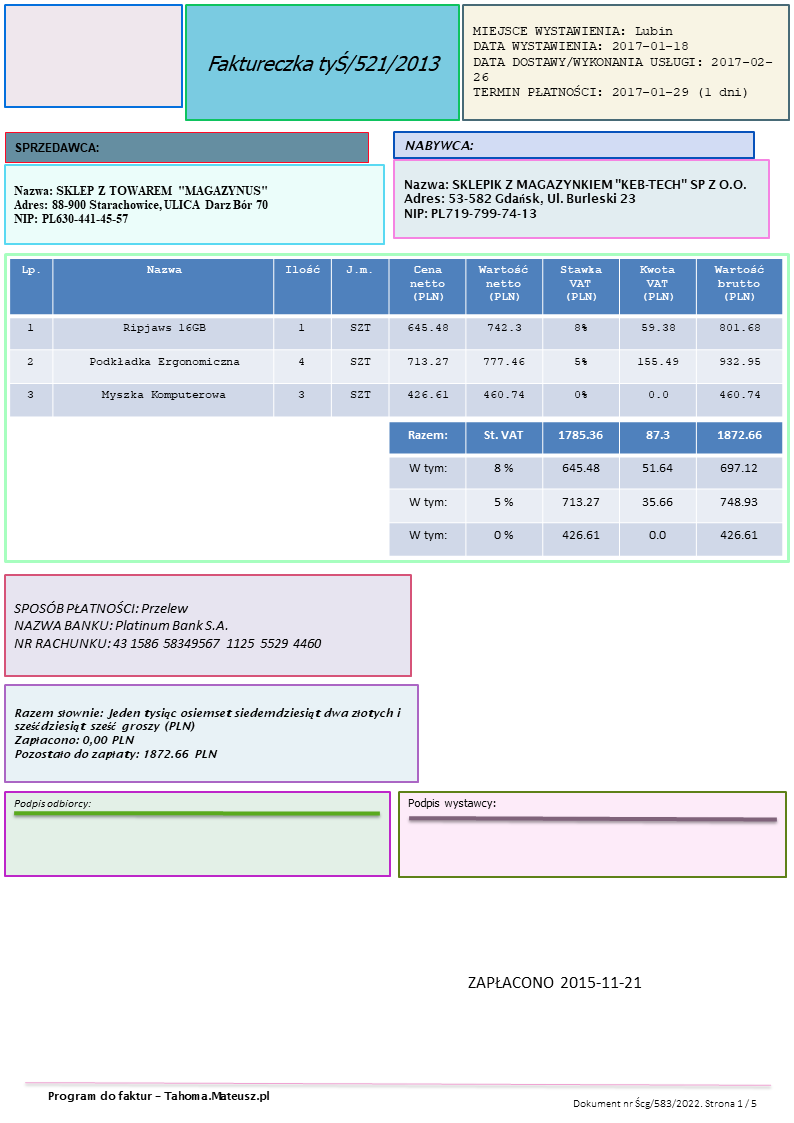Table: (8, 257, 783, 418), (387, 421, 785, 558)
TextBox: (469, 21, 775, 100), (12, 704, 406, 762), (9, 597, 323, 654), (400, 176, 751, 223), (10, 182, 272, 227), (204, 50, 442, 77), (465, 971, 643, 993), (45, 1088, 273, 1105), (568, 1094, 759, 1112), (10, 138, 103, 157), (405, 795, 498, 812), (10, 795, 90, 812), (402, 136, 476, 154)
